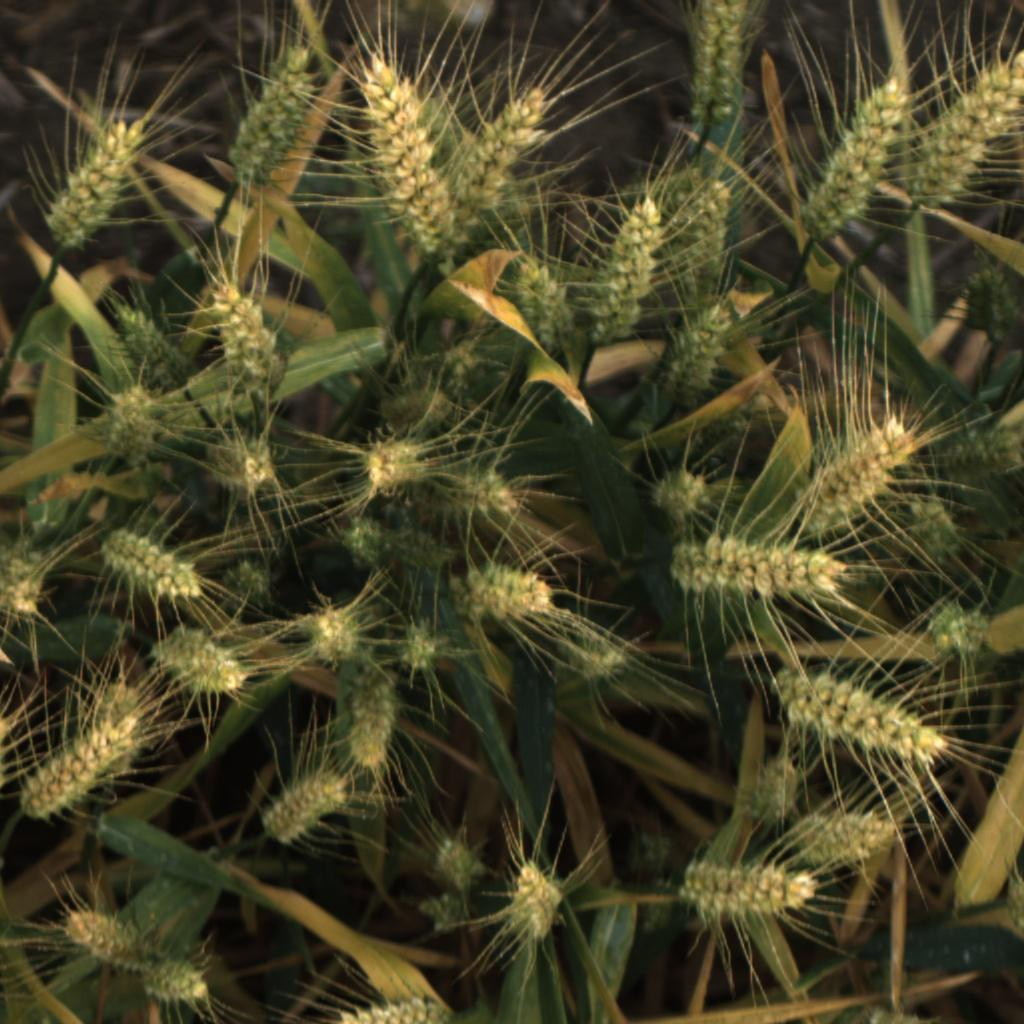0-0: (355, 49, 460, 262), (773, 662, 954, 770), (908, 44, 1024, 212), (803, 72, 910, 242), (447, 81, 554, 246), (221, 37, 324, 193), (797, 411, 920, 526), (45, 113, 145, 250), (665, 534, 850, 606), (584, 193, 672, 344), (19, 712, 134, 824), (680, 1, 759, 132), (207, 282, 282, 410), (656, 298, 742, 409), (666, 179, 742, 297), (677, 858, 819, 921), (99, 526, 205, 602), (256, 763, 350, 848), (151, 626, 247, 705), (502, 254, 576, 354), (111, 301, 190, 393), (793, 808, 909, 869), (405, 463, 521, 522), (443, 563, 558, 620), (54, 903, 144, 974), (196, 427, 283, 499), (339, 673, 400, 773), (959, 258, 1021, 350), (506, 856, 570, 945), (90, 385, 160, 466), (895, 490, 971, 563), (84, 676, 147, 763), (373, 386, 458, 447), (741, 751, 803, 833), (644, 460, 716, 530), (378, 517, 462, 576), (924, 596, 999, 661), (938, 422, 1024, 477), (422, 325, 498, 387), (363, 435, 434, 497), (297, 595, 357, 668), (0, 531, 51, 616), (218, 547, 282, 614), (563, 631, 637, 685), (145, 954, 216, 1009), (432, 832, 489, 893), (389, 614, 446, 675), (333, 996, 454, 1024), (338, 511, 400, 565), (712, 391, 762, 455), (416, 889, 475, 939), (625, 828, 680, 881), (640, 876, 684, 937), (842, 999, 945, 1024), (833, 557, 900, 595), (1006, 871, 1024, 935)
